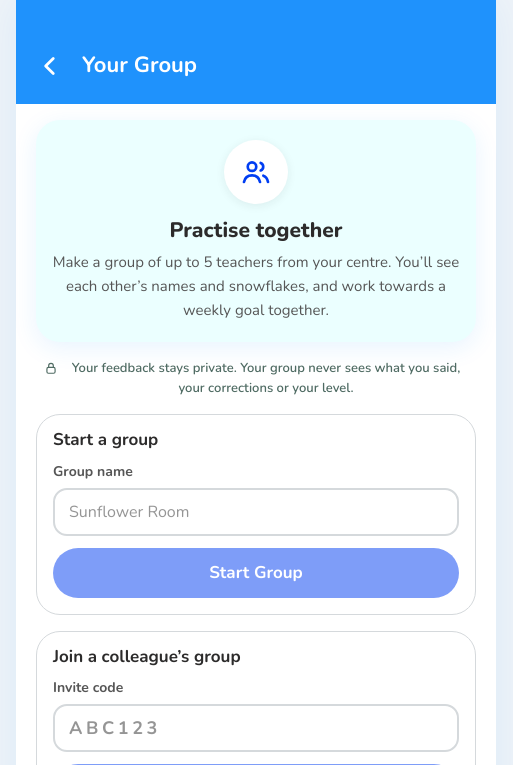
Test: Your Group › starts a group and shows the invite code
Check: the heading "Practise together" is shown, box x1=170 y1=216 x2=342 y2=244
Check: the text "never sees what you said" is shown, box x1=72 y1=359 x2=460 y2=397
Type "Lotus Room" into the field labelled "Group name" at point(256, 512), box x1=53 y1=488 x2=459 y2=536
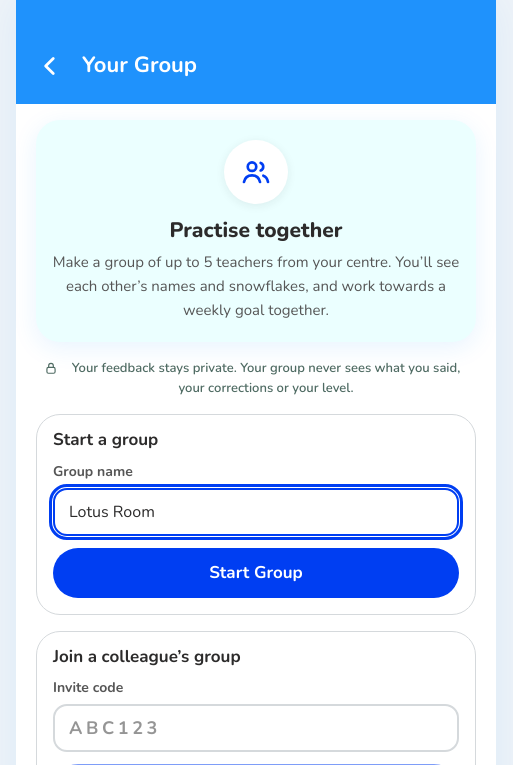
Click the button "Start Group" at point(256, 572), box x1=53 y1=548 x2=459 y2=598
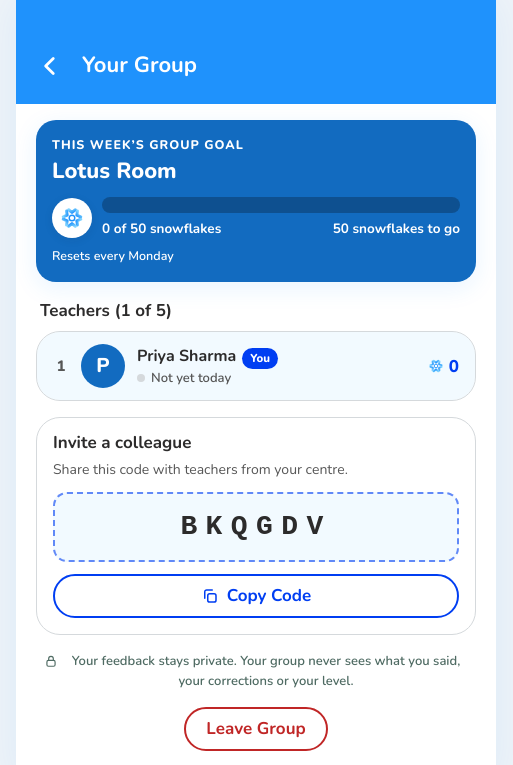
Check: the heading "Lotus Room" is shown, box x1=52 y1=156 x2=177 y2=186
Check: the heading "Teachers (1 of 5)" is shown, box x1=40 y1=299 x2=172 y2=322
Check: the text named "Invite code: B K Q G D V" is shown, box x1=53 y1=492 x2=459 y2=562
